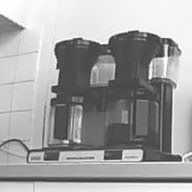not empty coffee: (102, 91, 155, 147)
